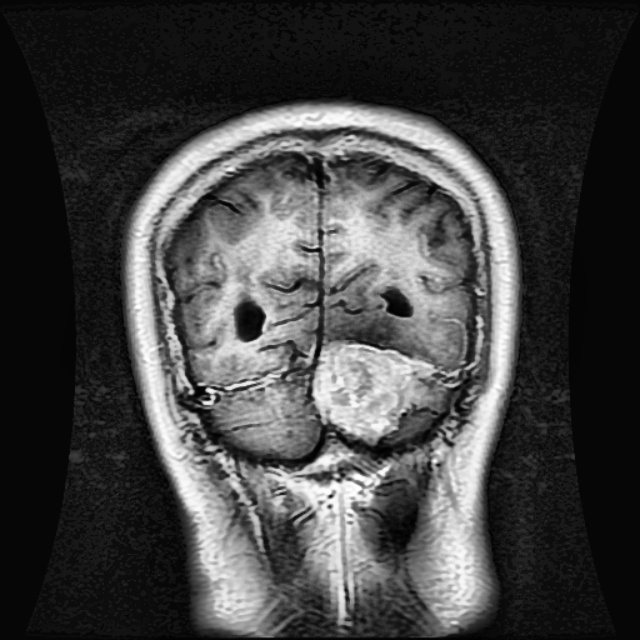Glioma: (312, 340, 429, 443)
